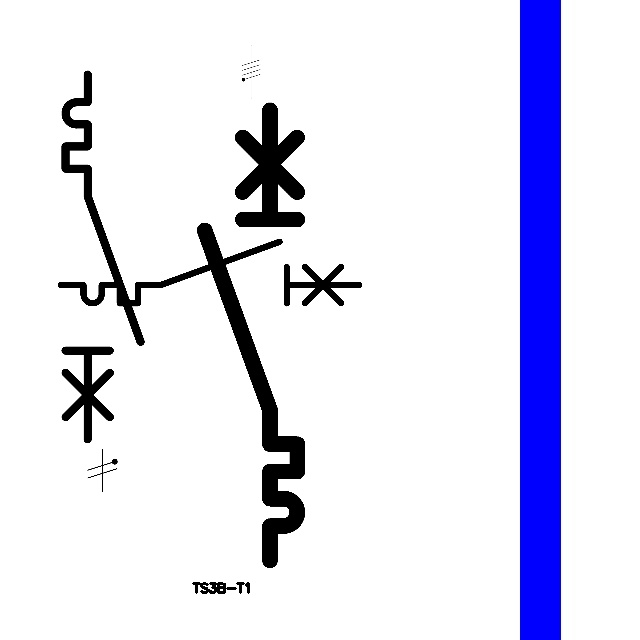interruptor_termomagnetico: (193, 98, 309, 571), (56, 65, 150, 449), (53, 234, 367, 311)
